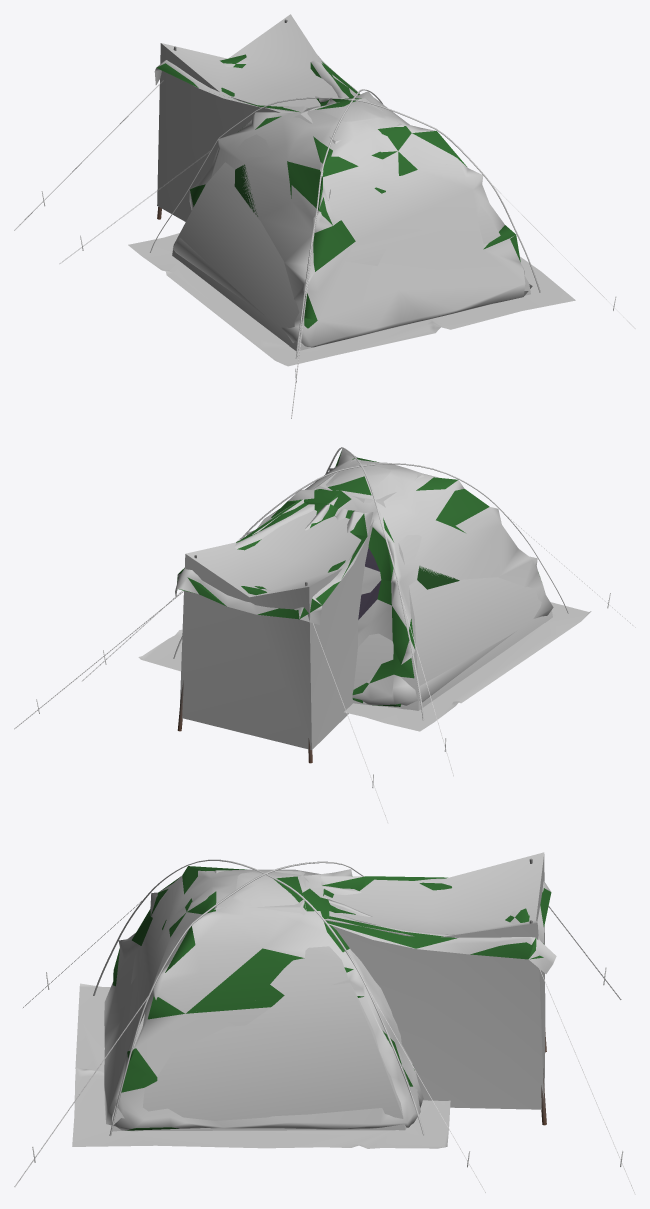
The model's file is ut_tent_b.DAE.
The picture shows the model from 3 angles, top to bottom: view 1: azimuth 30°, elevation 25°; view 2: azimuth 150°, elevation 25°; view 3: azimuth 270°, elevation 25°; orthographic projection. The views are drawn at different scales.
Visible parts, largest first — view 1: ut_tent_b150, Colmesh-1, ut_tent_b25; view 2: Colmesh-1, ut_tent_b150, ut_tent_b25; view 3: Colmesh-1, ut_tent_b150, ut_tent_b25.
Boxes of the visible parts, box(x1,y1,x2,y2) form: ut_tent_b150: box(14, 19, 635, 418); Colmesh-1: box(157, 14, 530, 351); ut_tent_b25: box(156, 54, 520, 328); Colmesh-1: box(180, 459, 552, 749); ut_tent_b150: box(14, 447, 635, 823); ut_tent_b25: box(177, 450, 538, 706); Colmesh-1: box(112, 852, 545, 1131); ut_tent_b150: box(14, 858, 635, 1194); ut_tent_b25: box(113, 866, 551, 1130).
Size of the model in its own units: 318 by 397 by 161.
